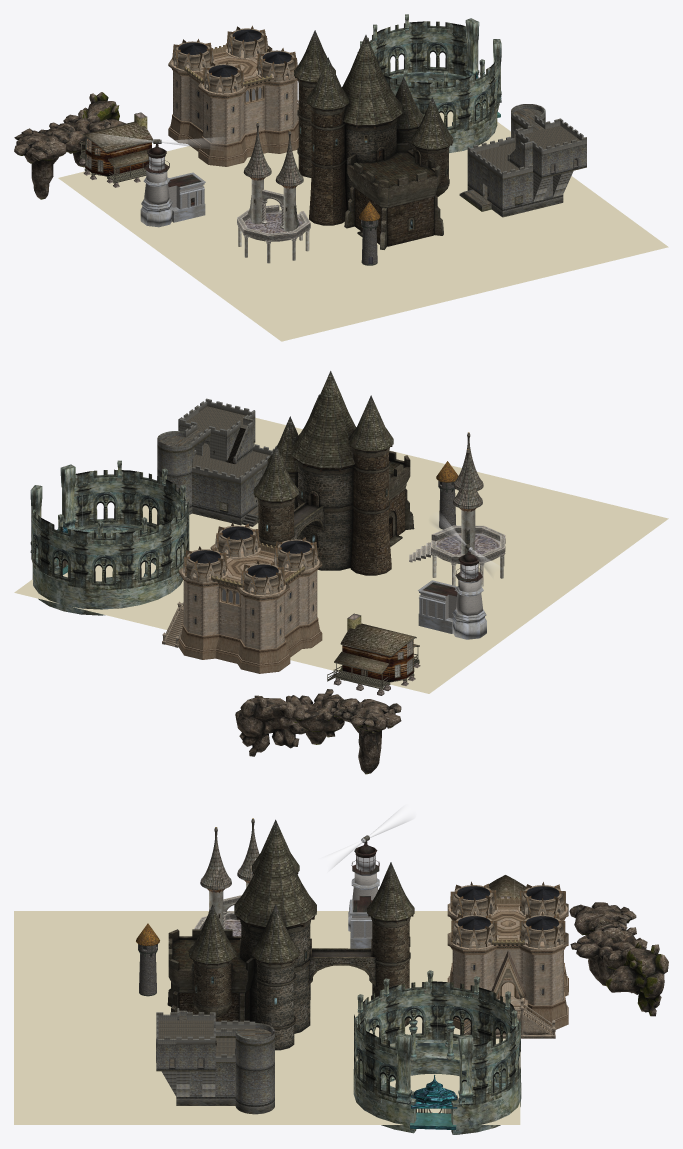
3 views of the same model, one above another, from view 1: azimuth 30°, elevation 25°; view 2: azimuth 150°, elevation 25°; view 3: azimuth 270°, elevation 25° (orthographic). The views are drawn at different scales.
Visible parts, largest first — view 1: _Fanatik Architecture_ DUNGAN CASTLE (ubODE) (×14), Terrain 0,12, Terrain 1,12, Terrain 0,13, Ruine Arene Lara, phantom (×3), mesh_0 (×3), Mesh Lake Cabin, Lighthouse Textured, Arrivee Porte Saraneth_mesh, BuiltUsingSkidzPrimz (×4), The Castle (+5 smaller); view 2: _Fanatik Architecture_ DUNGAN CASTLE (ubODE) (×11), Terrain 0,12, Ruine Arene Lara, Terrain 0,13, phantom (×3), mesh_0 (×3), Mesh Lake Cabin, Lighthouse Textured, Terrain 1,13, Arrivee Porte Saraneth_mesh, The Castle, Terrain 1,12 (+5 smaller); view 3: _Fanatik Architecture_ DUNGAN CASTLE (ubODE) (×14), Ruine Arene Lara, Terrain 1,12, Terrain 0,12, Terrain 1,13, phantom (×8), Terrain 0,13, mesh_0 (×3), BuiltUsingSkidzPrimz (×6), The Castle, Lighthouse Textured, sculpt colum Utrecht (×2) (+5 smaller).
Part boxes in pixels (<box>): _Fanatik Architecture_ DUNGAN CASTLE (ubODE) (×14): <box>294,30,453,246</box>; Terrain 0,12: <box>170,222,474,341</box>; Terrain 1,12: <box>405,176,668,294</box>; Terrain 0,13: <box>58,146,315,259</box>; Ruine Arene Lara: <box>357,21,500,153</box>; phantom (×3): <box>168,43,298,166</box>; mesh_0 (×3): <box>14,92,125,199</box>; Mesh Lake Cabin: <box>79,112,152,187</box>; Lighthouse Textured: <box>140,144,205,227</box>; Arrivee Porte Saraneth_mesh: <box>237,177,310,263</box>; BuiltUsingSkidzPrimz (×4): <box>487,144,586,210</box>; The Castle: <box>175,29,298,134</box>; _Fanatik Architecture_ DUNGAN CASTLE (ubODE) (×11): <box>253,371,405,575</box>; Terrain 0,12: <box>390,468,668,606</box>; Ruine Arene Lara: <box>31,468,189,615</box>; Terrain 0,13: <box>290,568,548,693</box>; phantom (×3): <box>178,541,322,673</box>; mesh_0 (×3): <box>235,689,401,774</box>; Mesh Lake Cabin: <box>327,613,420,695</box>; Lighthouse Textured: <box>418,550,486,639</box>; Terrain 1,13: <box>14,507,320,629</box>; Arrivee Porte Saraneth_mesh: <box>409,508,505,578</box>; The Castle: <box>162,526,315,644</box>; Terrain 1,12: <box>143,417,460,529</box>; _Fanatik Architecture_ DUNGAN CASTLE (ubODE) (×14): <box>168,825,414,1050</box>; Ruine Arene Lara: <box>353,981,521,1134</box>; Terrain 1,12: <box>14,1018,267,1124</box>; Terrain 0,12: <box>14,911,233,1017</box>; Terrain 1,13: <box>267,1018,520,1124</box>; phantom (×8): <box>447,885,568,1029</box>; Terrain 0,13: <box>310,911,452,1017</box>; mesh_0 (×3): <box>569,902,668,1016</box>; BuiltUsingSkidzPrimz (×6): <box>158,1039,274,1106</box>; The Castle: <box>457,886,559,1038</box>; Lighthouse Textured: <box>348,841,379,948</box>; sculpt colum Utrecht (×2): <box>396,1033,473,1106</box>.
Bounding box in the file's own units: 139 × 71.52 × 166.
Materials: 298 (295 with a texture image).
